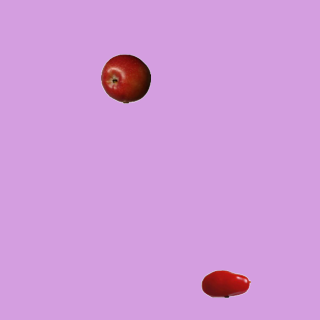Apple Braeburn: (100, 53, 150, 103)
Tomato 2: (200, 258, 250, 308)
